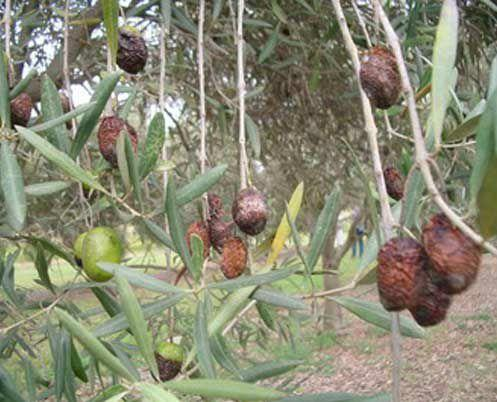Anthracnose: (420, 213, 482, 297), (375, 234, 429, 312), (356, 46, 404, 112), (408, 276, 451, 330), (96, 115, 140, 166), (230, 186, 270, 238), (114, 32, 152, 74), (214, 236, 250, 280), (7, 92, 34, 130), (184, 220, 210, 255), (383, 169, 405, 201), (206, 191, 226, 218)
